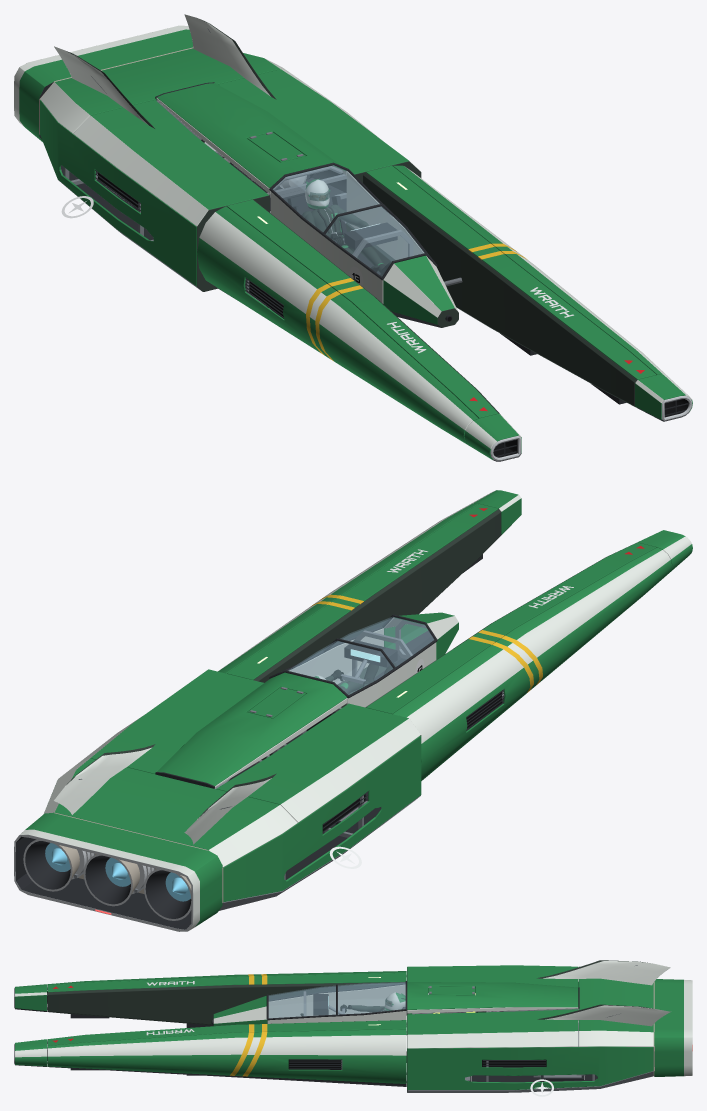
Rendered from wraith_core.fbx.
3 views of the same model, one above another, from view 1: azimuth 30°, elevation 25°; view 2: azimuth 150°, elevation 25°; view 3: azimuth 270°, elevation 25° (orthographic). The views are drawn at different scales.
Parts seen in each view (by area): view 1: Arm_Outer_L, Arm_Inner_R, Deck_L, Body_Side_L, Canopy, Deck_R, Spine_Top, Deck_Rear, Arm_Top_L, Arm_Top_R, Engine_Shroud, Pod_Nose (+17 smaller); view 2: Arm_Outer_L, Deck_Rear, Deck_L, Engine_Shroud, Body_Side_L, Spine_Top, Arm_Inner_R, Deck_R, Arm_Top_L, Arm_Top_R, Canopy, Shark_Fins (+17 smaller); view 3: Arm_Outer_R, Body_Side_R, Arm_Inner_L, Deck_R, Spine_Top, Deck_Rear, Canopy, Engine_Shroud, Shark_Fins, Arm_Top_L, Arm_Top_R, Deck_L (+16 smaller).
Boxes of the visible parts, x1=… form: Arm_Outer_L: x1=197, y1=206, x2=478, y2=444; Arm_Inner_R: x1=363, y1=172, x2=637, y2=407; Deck_L: x1=73, y1=100, x2=268, y2=226; Body_Side_L: x1=40, y1=100, x2=196, y2=286; Canopy: x1=273, y1=165, x2=424, y2=276; Deck_R: x1=218, y1=69, x2=420, y2=174; Spine_Top: x1=157, y1=83, x2=345, y2=187; Deck_Rear: x1=40, y1=48, x2=296, y2=133; Arm_Top_L: x1=227, y1=199, x2=498, y2=418; Arm_Top_R: x1=366, y1=165, x2=656, y2=379; Engine_Shroud: x1=14, y1=25, x2=192, y2=141; Pod_Nose: x1=383, y1=255, x2=458, y2=327; Arm_Outer_L: x1=393, y1=547, x2=671, y2=780; Deck_Rear: x1=44, y1=758, x2=297, y2=867; Deck_L: x1=216, y1=703, x2=420, y2=822; Engine_Shroud: x1=14, y1=812, x2=222, y2=931; Body_Side_L: x1=223, y1=736, x2=421, y2=902; Spine_Top: x1=157, y1=672, x2=346, y2=785; Arm_Inner_R: x1=253, y1=509, x2=501, y2=682; Deck_R: x1=74, y1=669, x2=263, y2=773; Arm_Top_L: x1=366, y1=542, x2=656, y2=713; Arm_Top_R: x1=227, y1=504, x2=497, y2=679; Canopy: x1=287, y1=617, x2=434, y2=694; Shark_Fins: x1=54, y1=744, x2=276, y2=844; Arm_Outer_R: x1=47, y1=1029, x2=406, y2=1086; Body_Side_R: x1=407, y1=1046, x2=653, y2=1089; Arm_Inner_L: x1=47, y1=982, x2=405, y2=1025; Deck_R: x1=407, y1=1009, x2=578, y2=1048; Spine_Top: x1=407, y1=982, x2=578, y2=1009; Deck_Rear: x1=579, y1=966, x2=653, y2=1046; Canopy: x1=268, y1=982, x2=405, y2=1017; Engine_Shroud: x1=654, y1=979, x2=692, y2=1076; Shark_Fins: x1=537, y1=960, x2=670, y2=1026; Arm_Top_L: x1=47, y1=973, x2=406, y2=992; Arm_Top_R: x1=47, y1=1020, x2=406, y2=1045; Deck_L: x1=407, y1=965, x2=578, y2=987.
Bounding box in the file's own units: 221 × 80 × 632.
